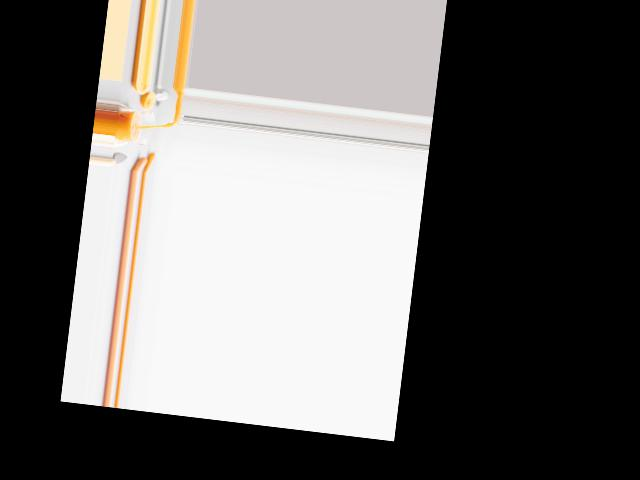carrot: (129, 148, 155, 173)
